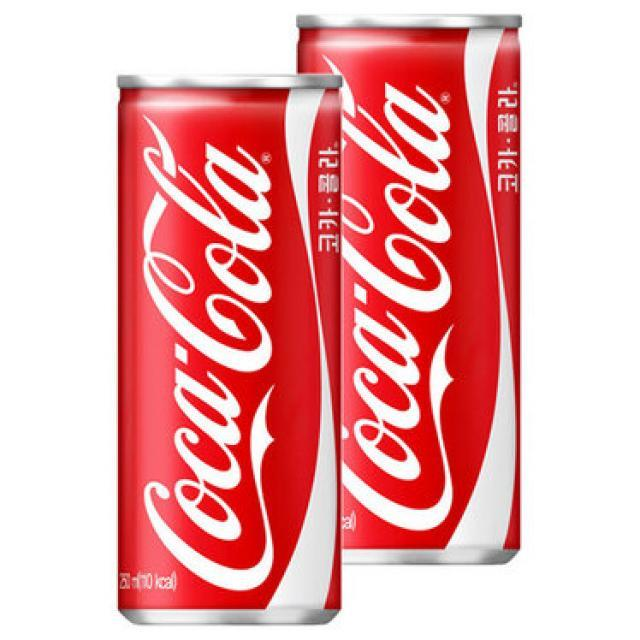coca-cola: (114, 65, 350, 629), (342, 9, 528, 574)
